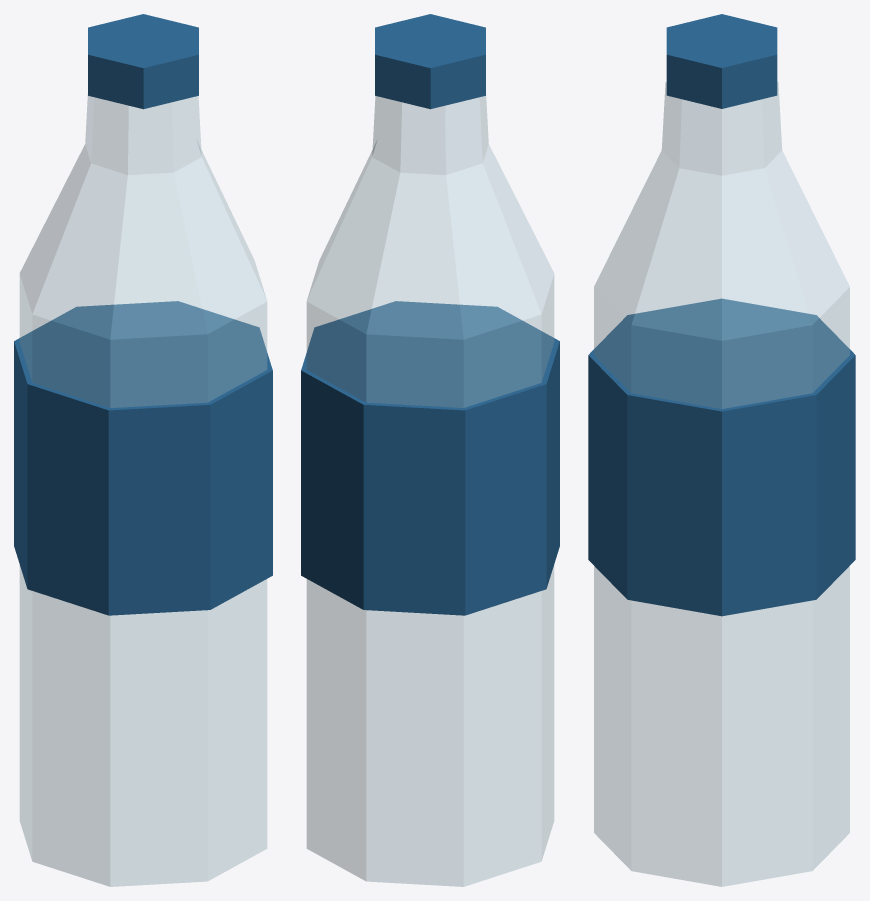
The model's file is FD_WaterBottle_01.glb.
The picture shows the model from 3 angles, left to right: view 1: azimuth 30°, elevation 25°; view 2: azimuth 150°, elevation 25°; view 3: azimuth 270°, elevation 25°; orthographic projection.
Parts seen in each view (by area): view 1: FD_WaterBottle_01; view 2: FD_WaterBottle_01; view 3: FD_WaterBottle_01.
Boxes of the visible parts, box(x1,y1,x2,y2) form: FD_WaterBottle_01: box(14, 14, 272, 886); FD_WaterBottle_01: box(301, 14, 559, 886); FD_WaterBottle_01: box(588, 14, 855, 886).
Bounding box in the file's own units: 0.071 × 0.232 × 0.071.
2 materials, 2 textured.
